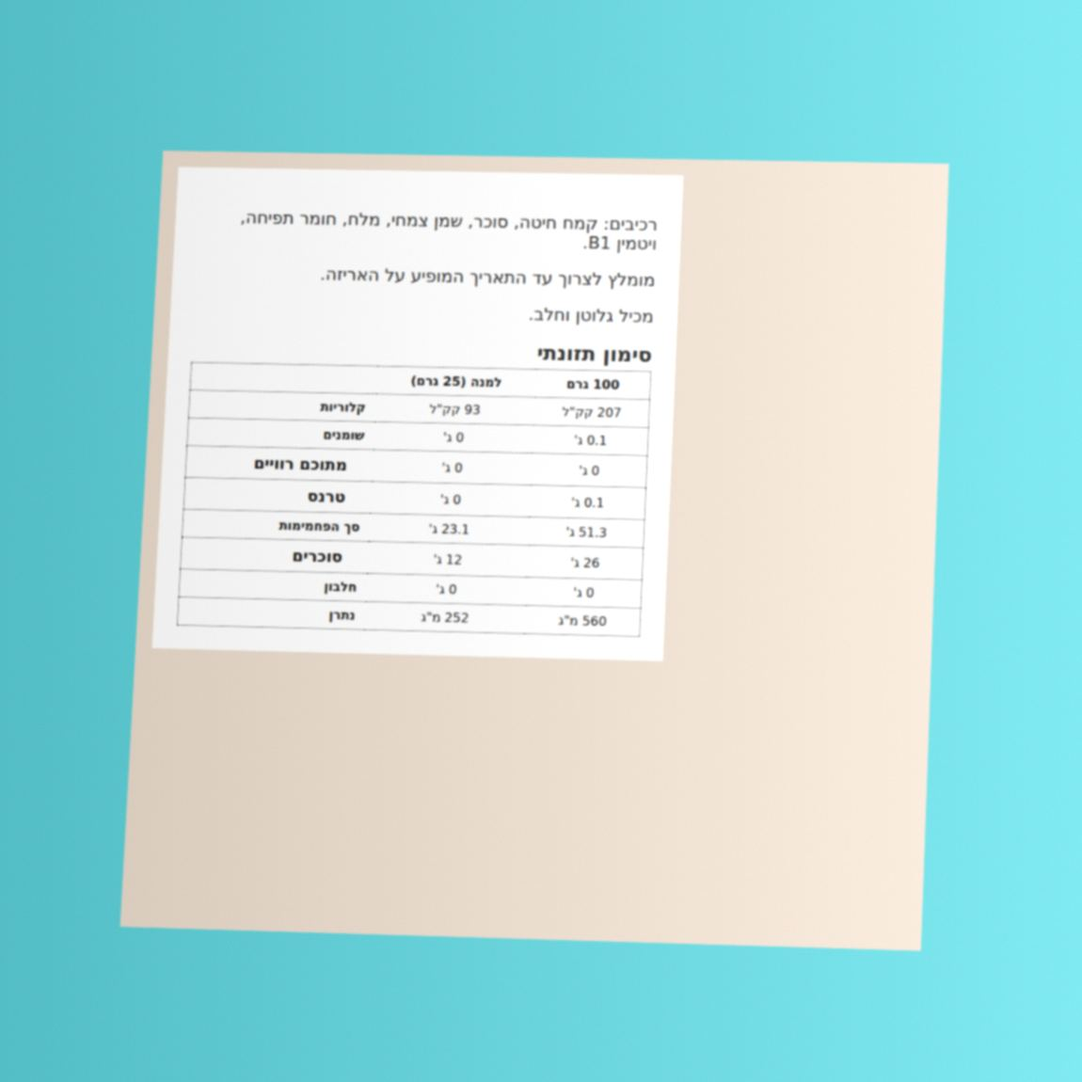carbs: (564, 523, 609, 542)
energy: (560, 402, 624, 422)
fat: (572, 431, 609, 450)
protein: (571, 583, 596, 602)
